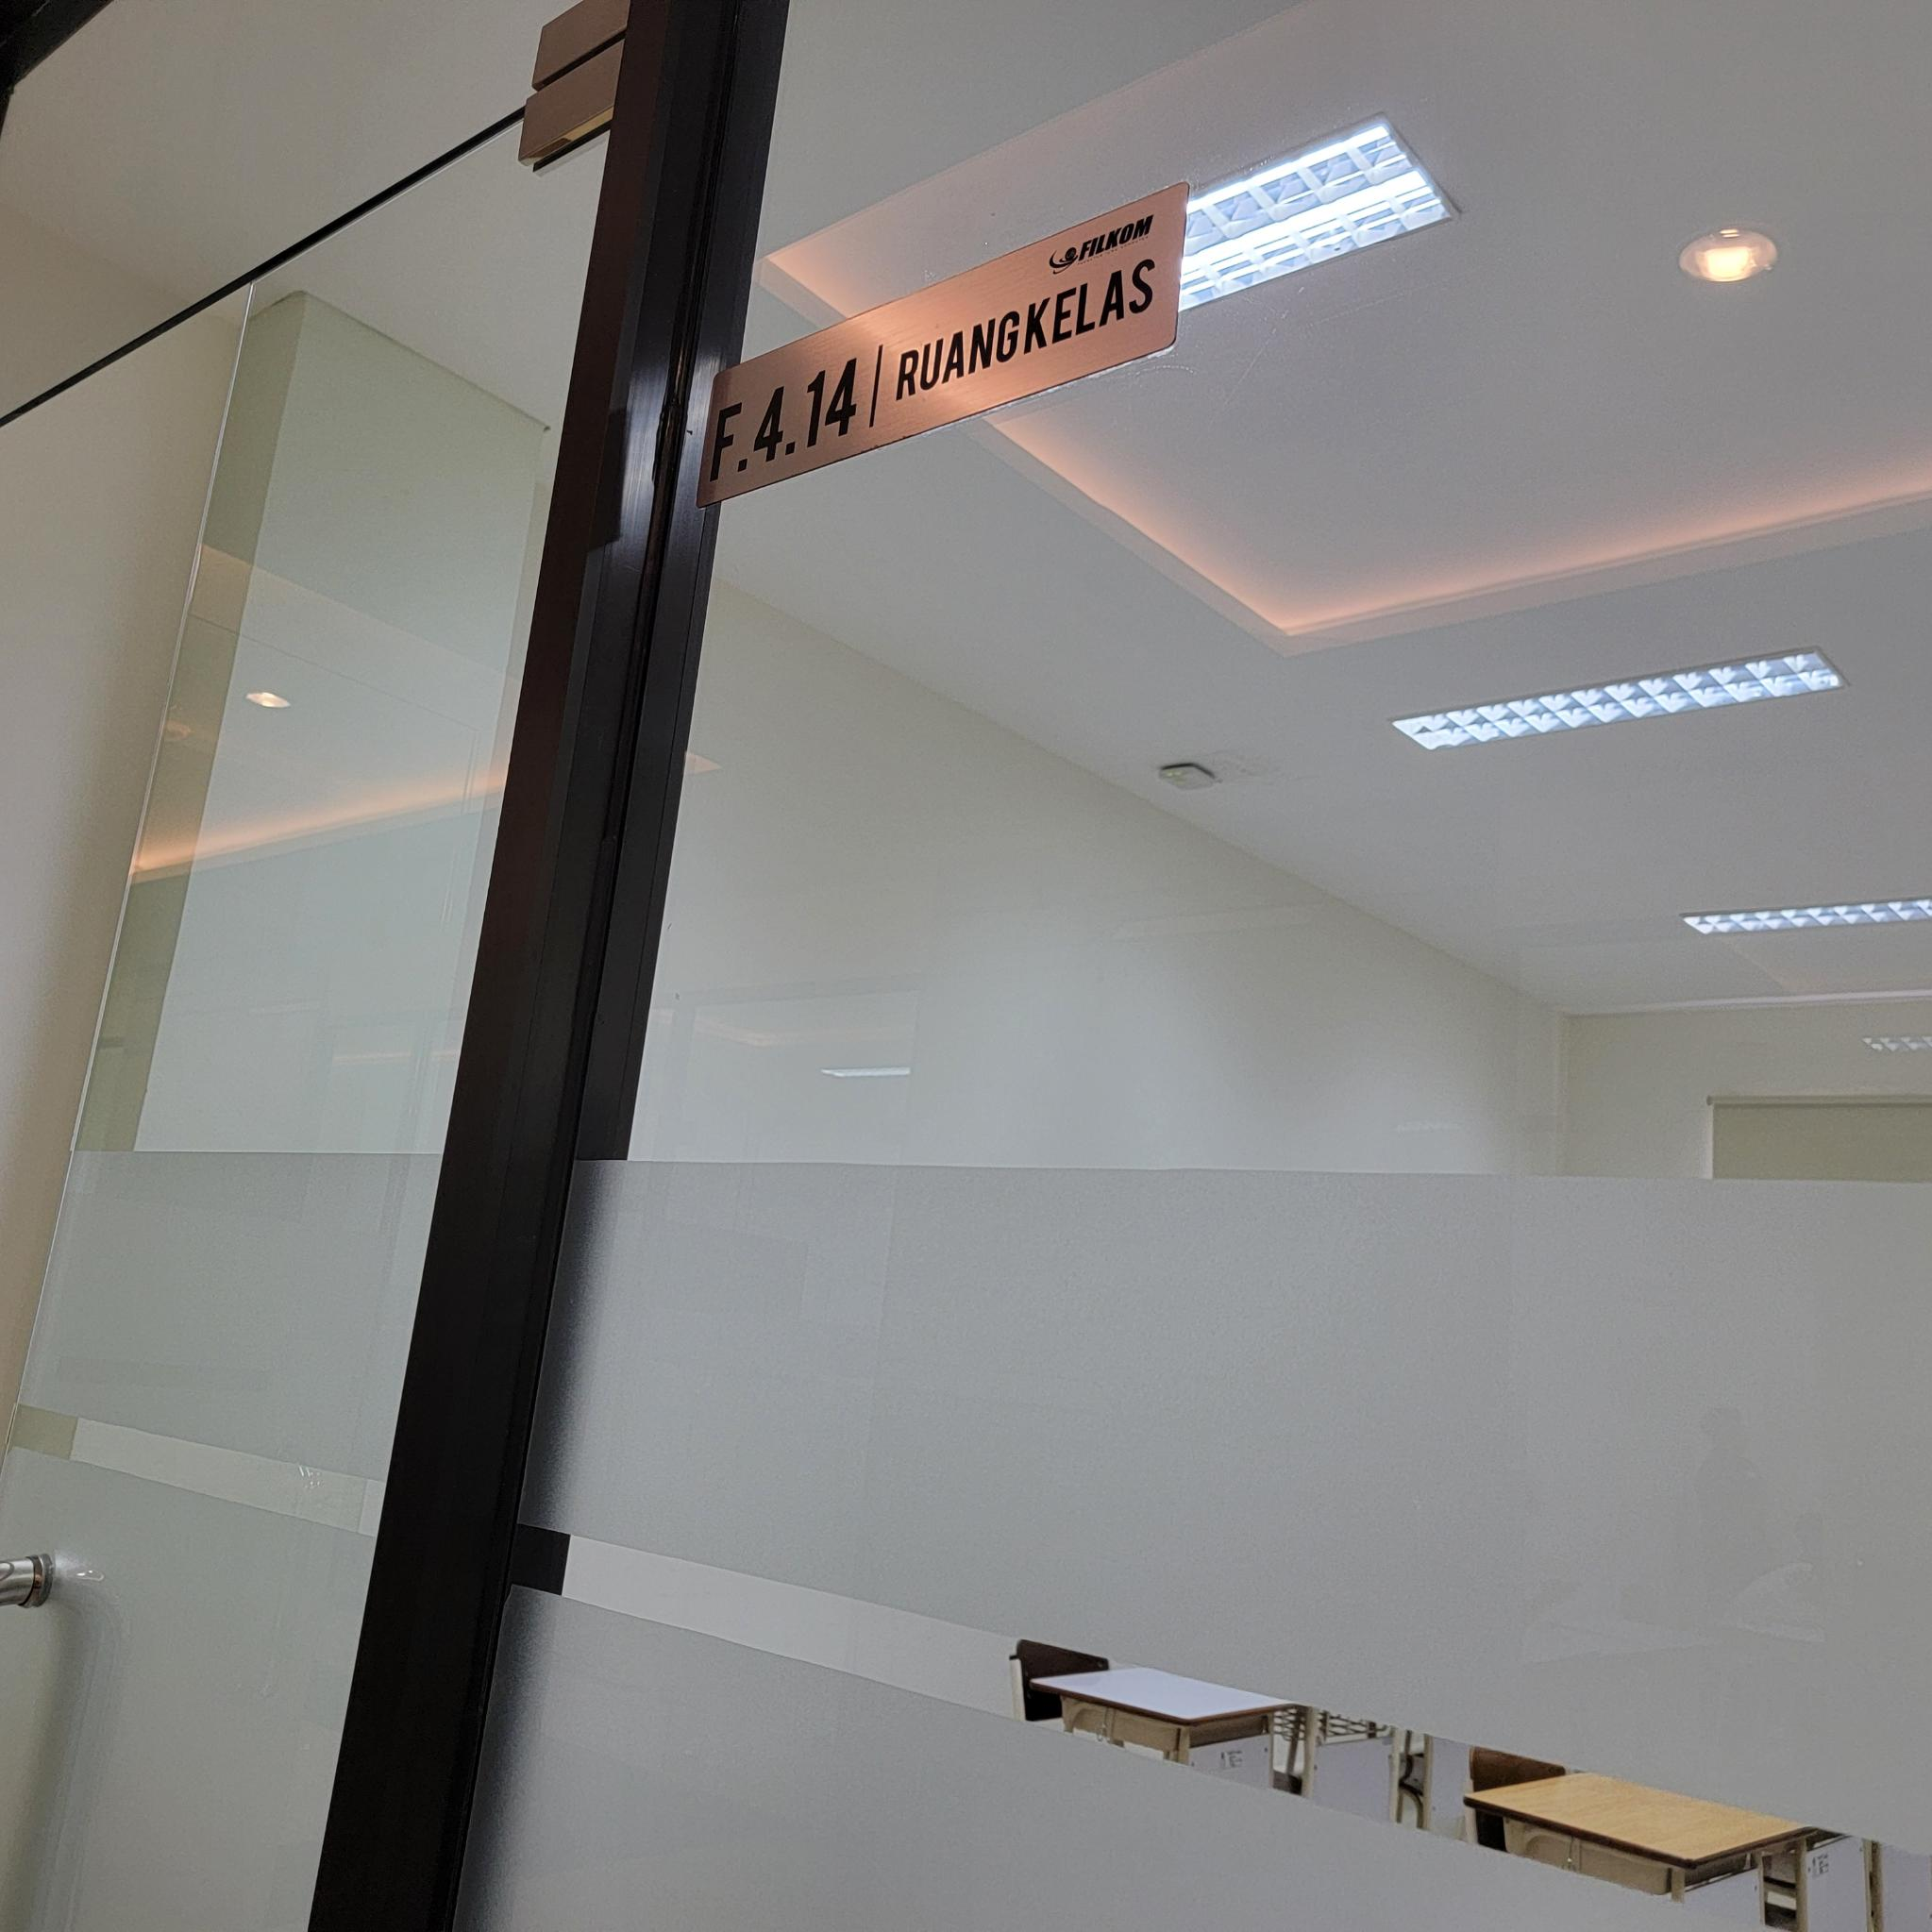plate: (695, 179, 1192, 511)
